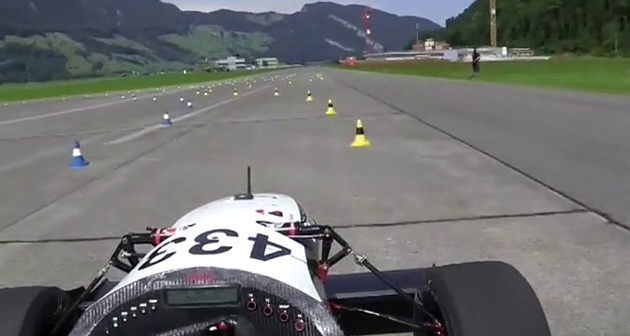Cone: (67, 138, 92, 168), (348, 117, 371, 148), (324, 97, 337, 115)
